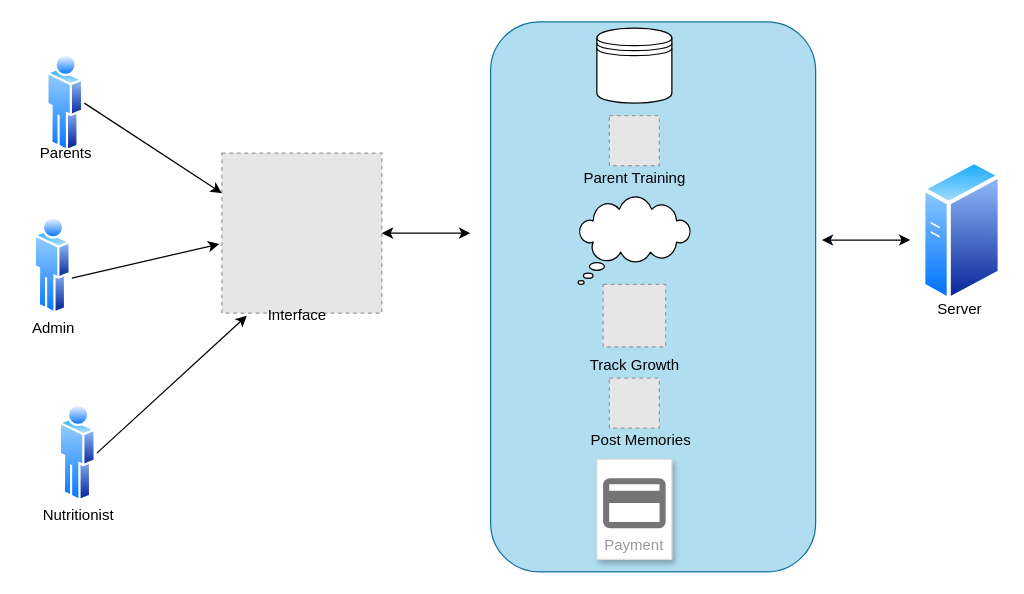
Image size: 1024x594. Some labels were removed from this diagram. Grey dashed boxes stand in for pictures. Here are the shapes that lost their labels. From the top down, the centre of each, then its label:
At (x=634, y=65): "Post Queries".
At (x=634, y=240): "Request Diet".
